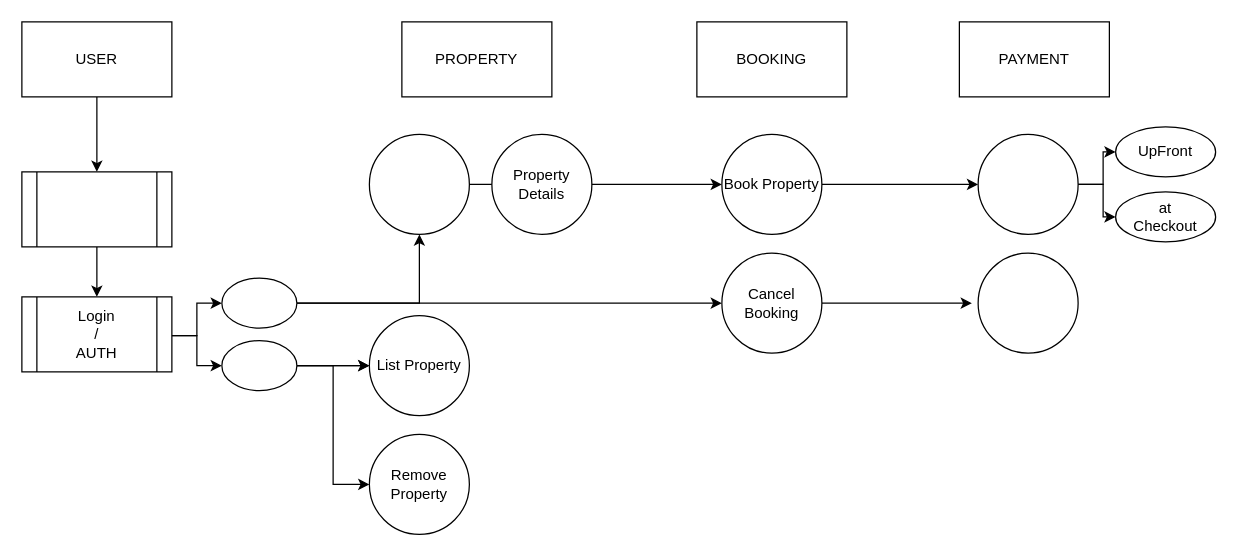
The diagram is 1238 pixels wide and 556 high, and some of its shapes have lost their labels. The centre of each missing label's shape, as x and y in pixels:
"Guest" belongs at point (259, 302).
"Host" belongs at point (259, 365).
"Payment Option" belongs at point (1027, 183).
"Refund" belongs at point (1027, 302).
"Regestration" belongs at point (96, 209).
"Search Property" belongs at point (418, 183).
